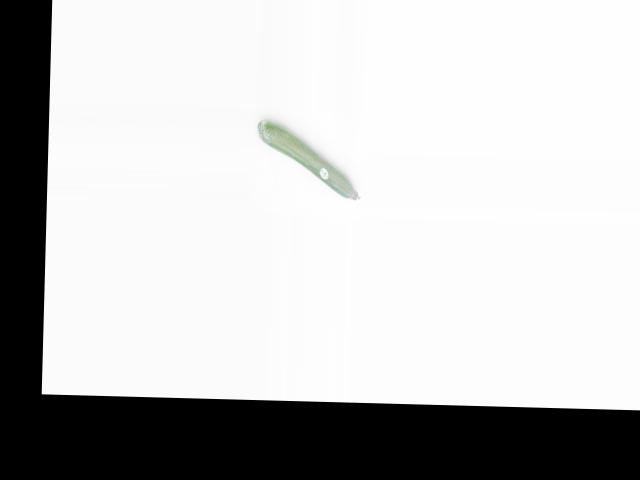cucumber: (256, 120, 363, 200)
